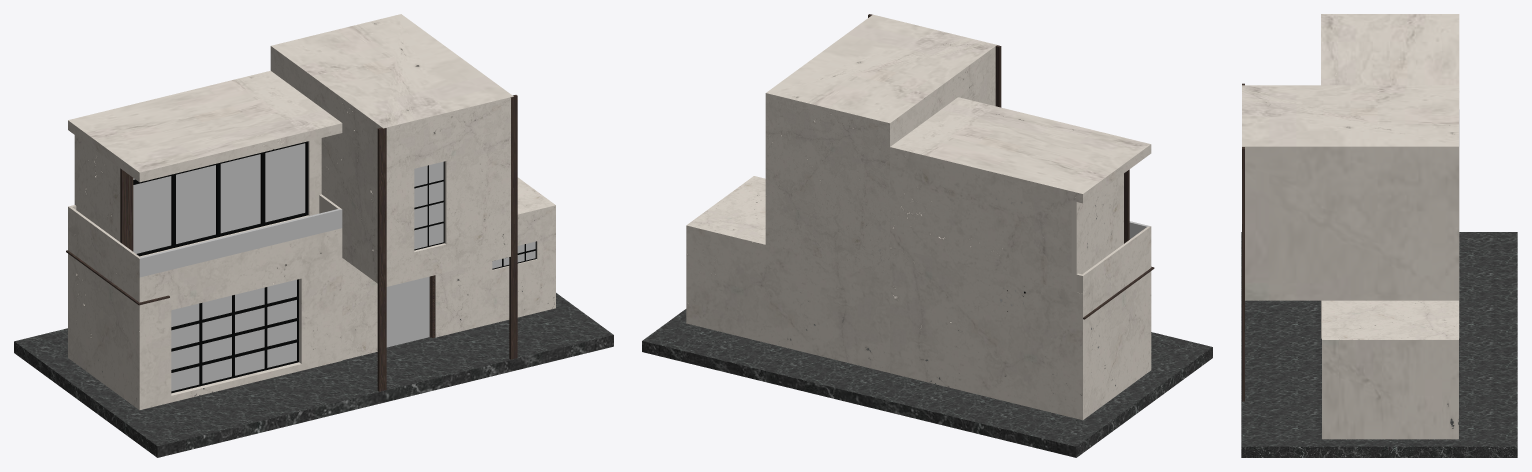
The model's file is Motel.obj.
3 views of the same model, side by side, from view 1: azimuth 30°, elevation 25°; view 2: azimuth 150°, elevation 25°; view 3: azimuth 270°, elevation 25° (orthographic). The views are drawn at different scales.
Visible parts, largest first — view 1: Cube.007; view 2: Cube.007; view 3: Cube.007.
Part boxes in pixels (x1,y1,x2,y2): Cube.007: (14,14,613,457); Cube.007: (642,14,1212,457); Cube.007: (1241,14,1517,457).
Size of the model in its own units: 4.67 by 2.68 by 2.54.
